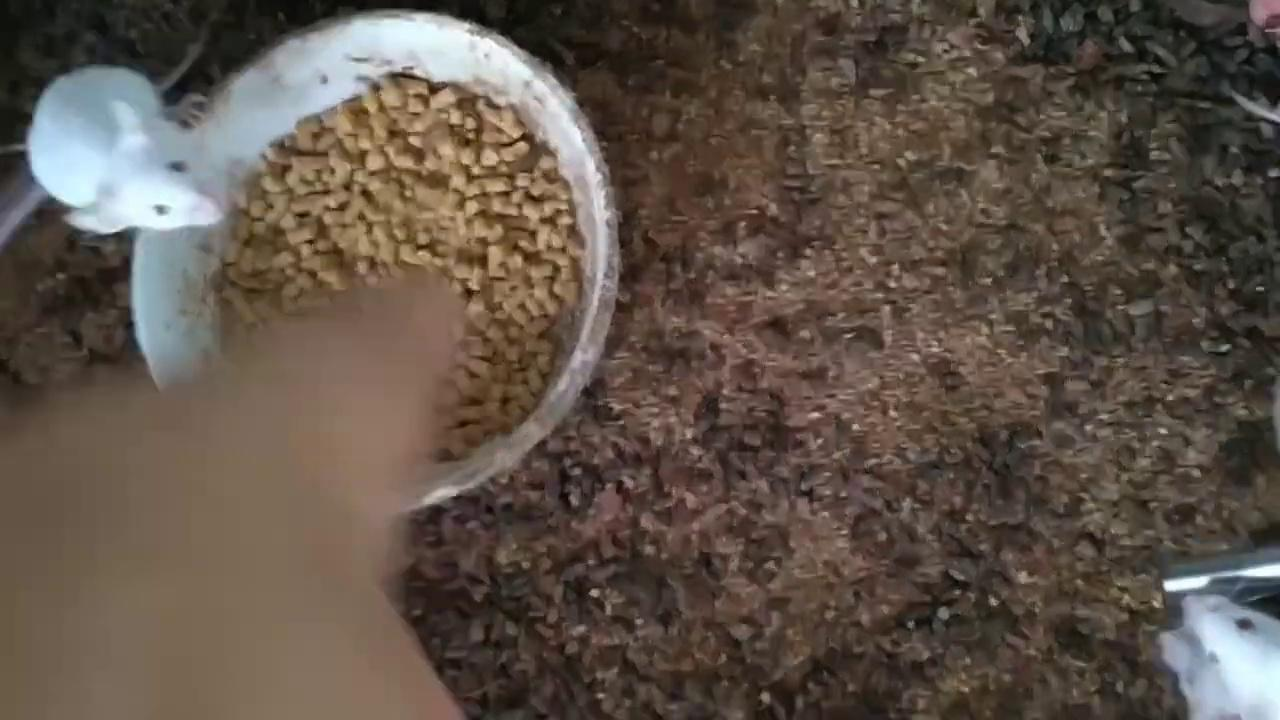rat: (26, 62, 232, 234), (1181, 596, 1280, 720)
